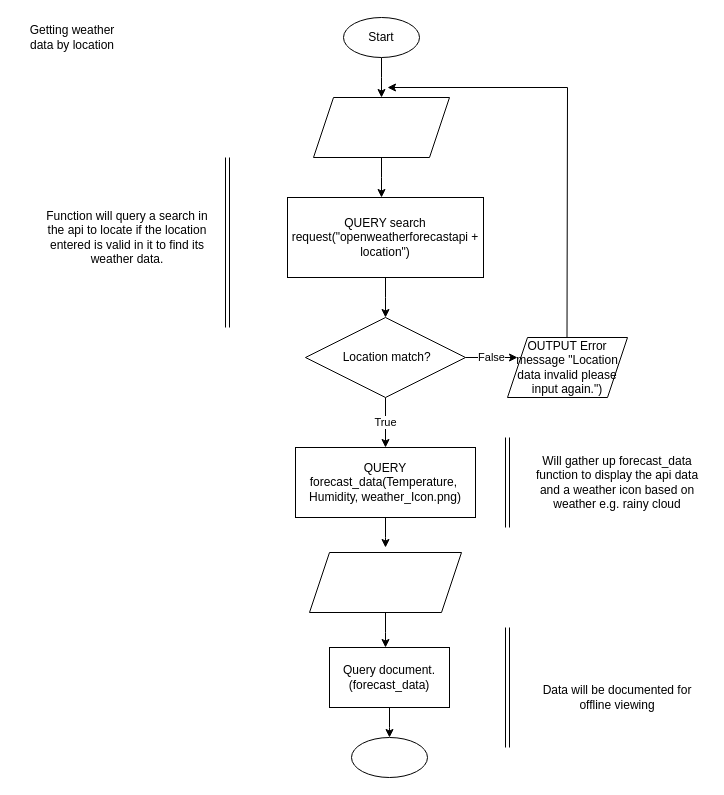
Some shapes in this 724 by 795 pixel diagram are drawn without their labels. The shapes that lost their labels are listed below. From the top down, each one's centre as x and y in pixels, then its label:
the point at 381,127: Location = INPUT "Enter desired location"
the point at 385,582: OUTPUT (forecast_data)
the point at 389,757: End
